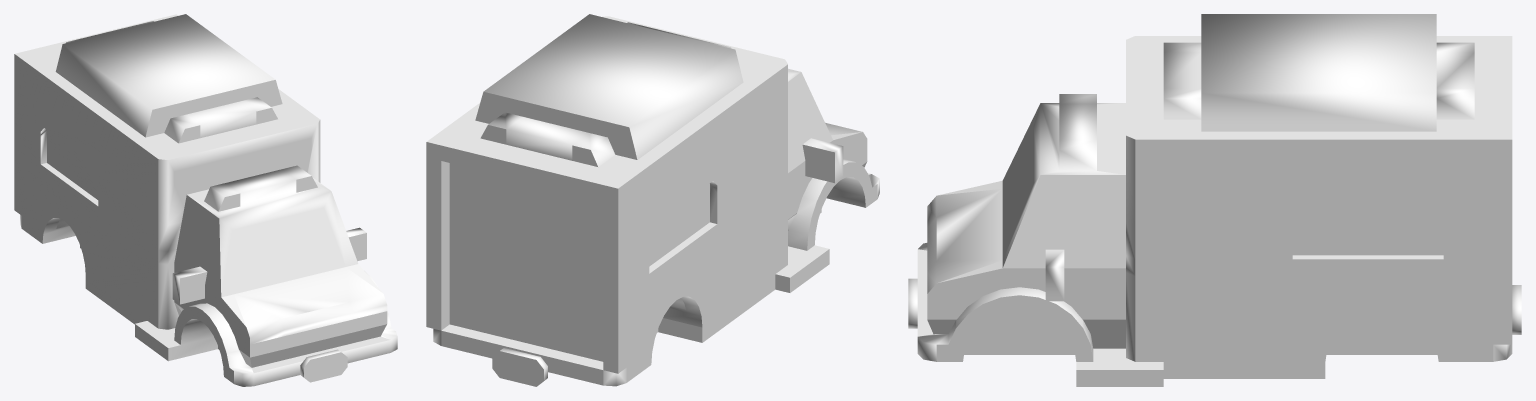
File: ambulance-vehicle.glb
The picture shows the model from 3 angles, left to right: view 1: azimuth 30°, elevation 25°; view 2: azimuth 150°, elevation 25°; view 3: azimuth 270°, elevation 25°; orthographic projection. The views are drawn at different scales.
Visible parts, largest first — view 1: ambulance-vehicle; view 2: ambulance-vehicle; view 3: ambulance-vehicle.
Boxes of the visible parts, x1,y1,x2,y2 form: ambulance-vehicle: (14, 14, 397, 386); ambulance-vehicle: (426, 14, 879, 386); ambulance-vehicle: (908, 14, 1521, 386).
Bounding box in the file's own units: 1.5 × 1.6 × 3.25.
Materials: 1 (1 with a texture image).
